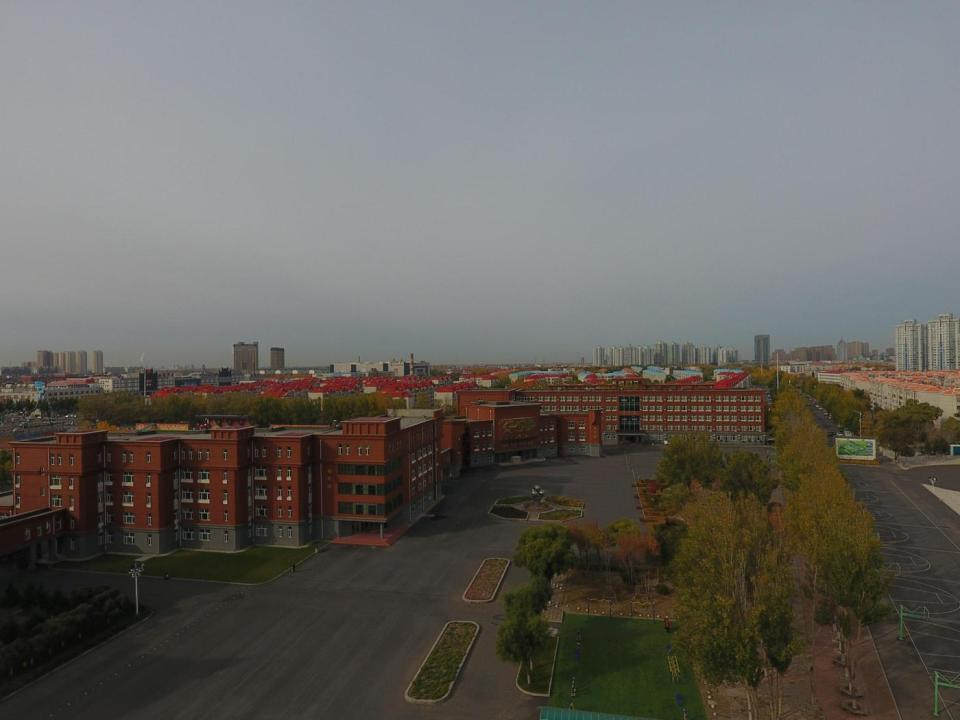car: (13, 427, 24, 432), (827, 430, 835, 436), (836, 431, 843, 437), (837, 423, 844, 428), (66, 421, 73, 425), (71, 421, 78, 425), (818, 406, 824, 410), (828, 416, 834, 419), (815, 404, 820, 407), (824, 412, 828, 415)
truck: (19, 421, 30, 427)
